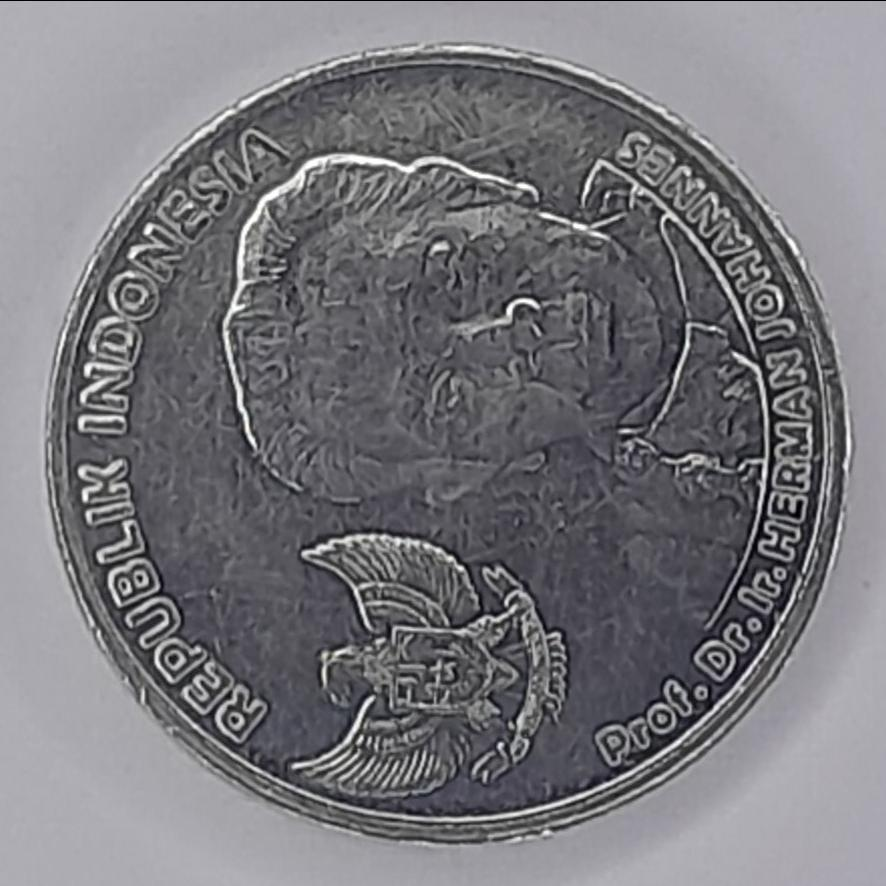coin_100_e2016: (38, 36, 857, 849)
